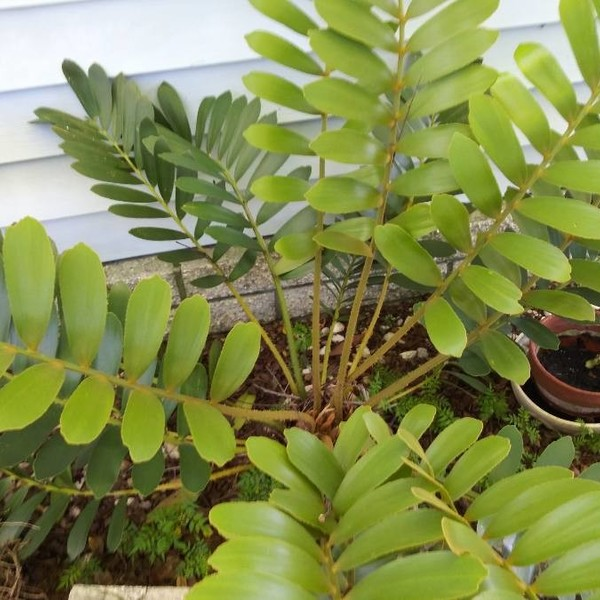obstacle: (6, 7, 594, 587)
